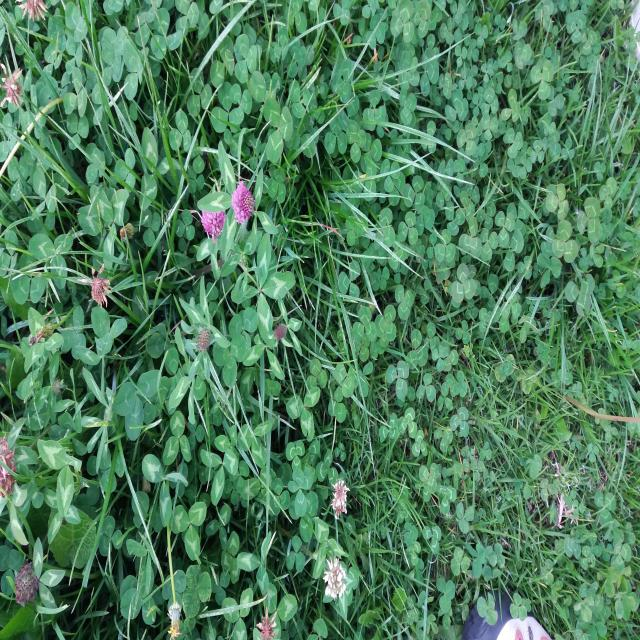Four Leaf Clover: (231, 233, 296, 350), (288, 466, 314, 517)
